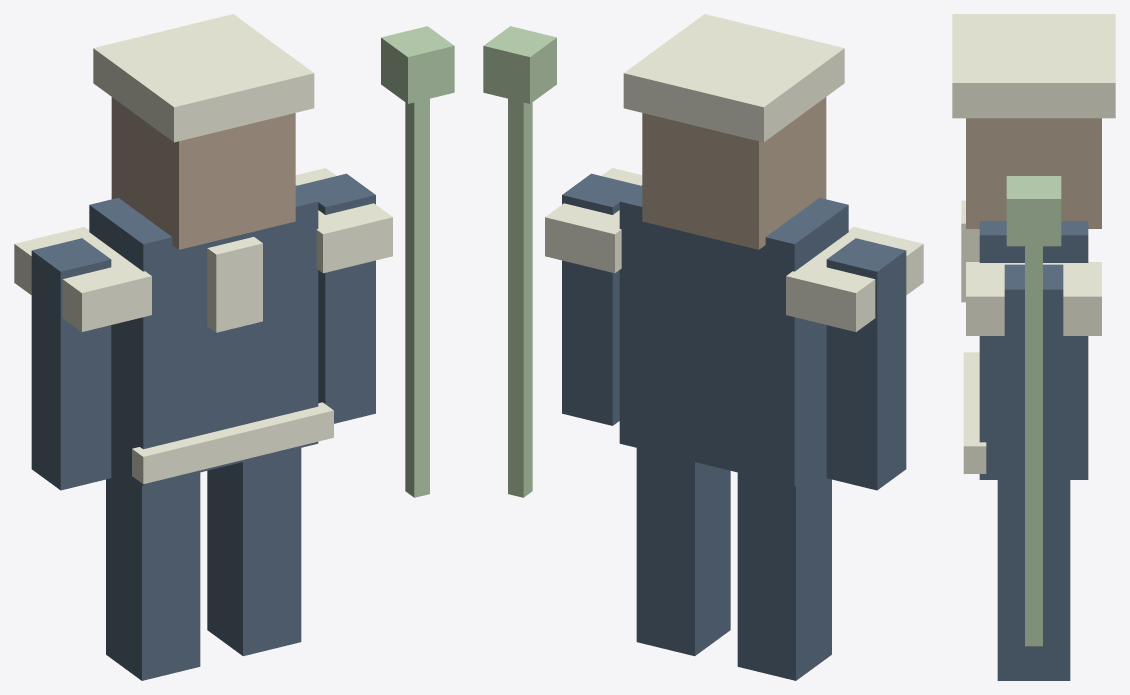
The model's file is 02_maven_emberkin_tamer_at_laser.glb.
The picture shows the model from 3 angles, left to right: view 1: azimuth 30°, elevation 25°; view 2: azimuth 150°, elevation 25°; view 3: azimuth 270°, elevation 25°; orthographic projection.
Parts seen in each view (by area): view 1: Maven Emberkin, Tamer at Laser; view 2: Maven Emberkin, Tamer at Laser; view 3: Maven Emberkin, Tamer at Laser.
Boxes of the visible parts, <box> form: Maven Emberkin, Tamer at Laser: <box>14,14,454,680</box>; Maven Emberkin, Tamer at Laser: <box>483,14,923,680</box>; Maven Emberkin, Tamer at Laser: <box>952,14,1115,680</box>.
Bounding box in the file's own units: 1 × 1.42 × 0.3547.
